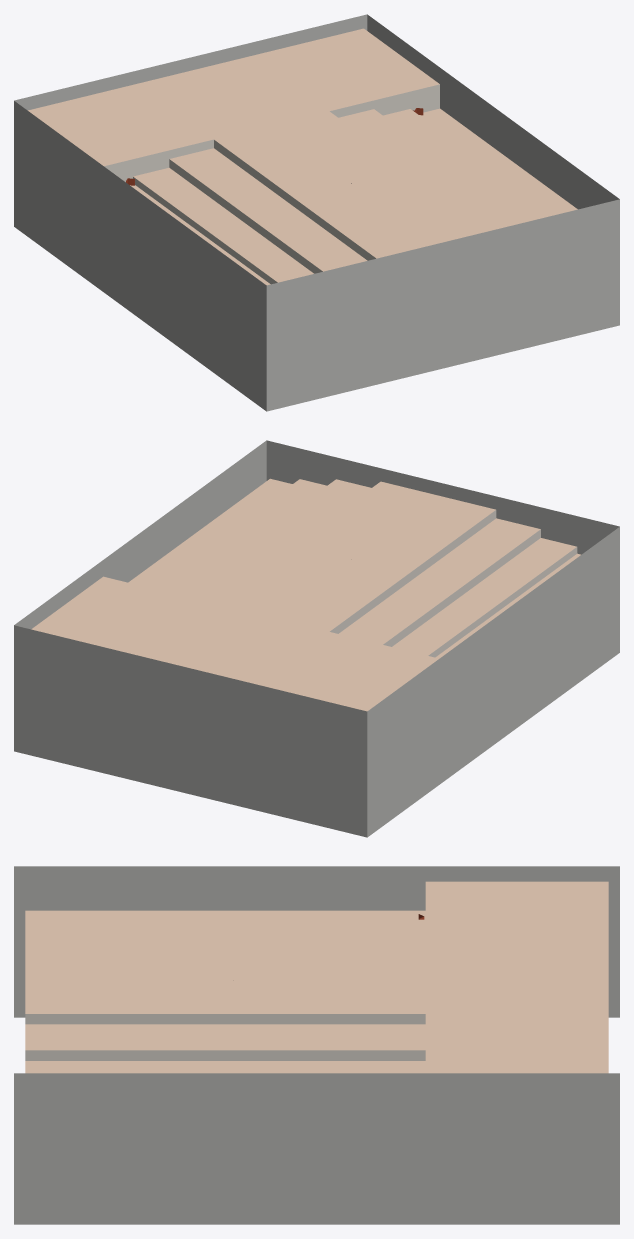
File: GA_Auditorium.glb
3 views of the same model, one above another, from view 1: azimuth 30°, elevation 25°; view 2: azimuth 150°, elevation 25°; view 3: azimuth 270°, elevation 25° (orthographic). The views are drawn at different scales.
Visible parts, largest first — view 1: AUD_Shell, AUD_Ceiling; view 2: AUD_Shell, AUD_Ceiling; view 3: AUD_Shell, AUD_Ceiling.
Boxes of the visible parts, x1,y1,x2,y2 form: AUD_Shell: [14, 14, 619, 411]; AUD_Ceiling: [28, 28, 577, 285]; AUD_Shell: [14, 440, 619, 837]; AUD_Ceiling: [31, 478, 580, 711]; AUD_Shell: [14, 866, 619, 1224]; AUD_Ceiling: [25, 881, 608, 1073].
Bounding box in the file's own units: 42.8 × 14.6 × 53.
